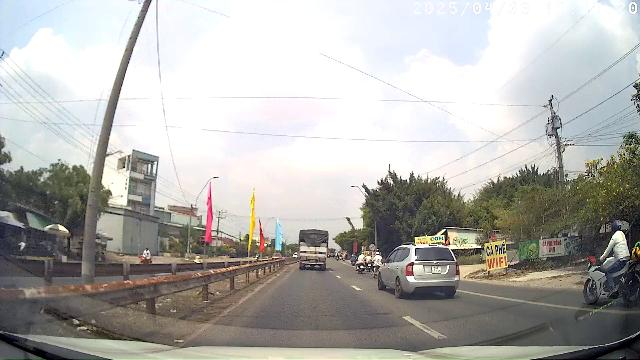133-het-cam-vuot: (369, 244, 375, 250)
